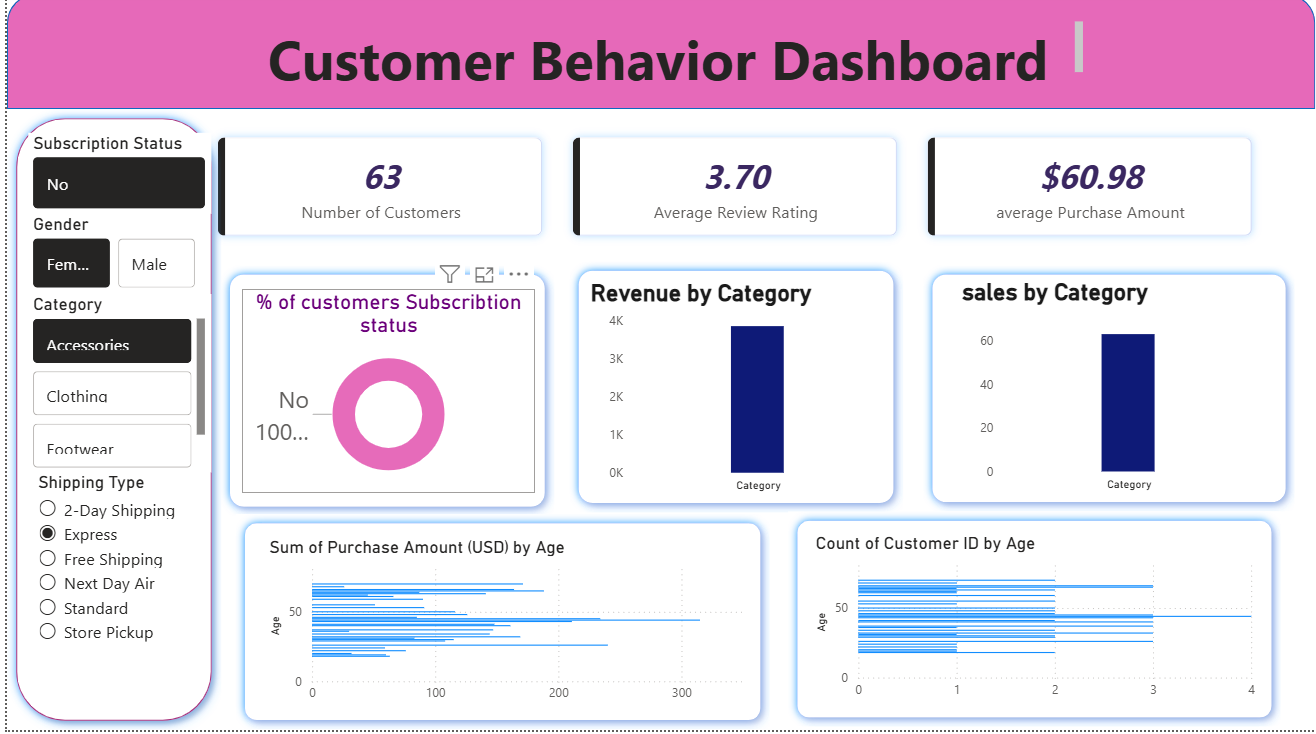

The page's visual inventory and layout, read from the dashboard file:
{"tool":"powerbi","page":{"name":"Page 1","canvas":[1280,720],"ordinal":0},"visuals":[{"type":"cardVisual","fields":{"Data":["public customer.Number of Customers","public customer.Average Review Rating","public customer.average Purchase Amount"]},"box":[178.9,112.5,1067.6,152.9],"z":0},{"type":"shape","box":[0,0,1279.7,112.5],"z":1000},{"type":"textbox","box":[223.6,21.6,833.9,69.3],"z":2000},{"type":"shape","box":[209.2,265.5,326.1,245.3],"z":3000},{"type":"donutChart","title":"% of  customers Subscribtion status","fields":{"Category":["public customer.Subscription Status"],"Y":["CountNonNull(public customer.Customer ID)"]},"box":[229.4,288.6,287.1,199.1],"z":4000},{"type":"shape","box":[549.7,261.1,326.1,245.3],"z":5000},{"type":"shape","box":[896,265.5,363.6,240.9],"z":6000},{"type":"clusteredColumnChart","title":" Revenue by Category","fields":{"Category":["public customer.Category"],"Y":["Sum(public customer.Purchase Amount (USD))"]},"box":[565.6,278.5,297.2,213.5],"z":7000},{"type":"clusteredColumnChart","title":"sales by Category","fields":{"Category":["public customer.Category"],"Y":["CountNonNull(public customer.Customer ID)"]},"box":[929.1,277,297.2,213.5],"z":8000},{"type":"shape","box":[0,112.5,209.2,607.4],"z":9000},{"type":"advancedSlicerVisual","fields":{"Values":["public customer.Subscription Status"]},"box":[20.2,135.6,178.9,79.4],"z":10000},{"type":"advancedSlicerVisual","fields":{"Values":["public customer.Gender"]},"box":[20.2,215,168.8,77.9],"z":11000},{"type":"advancedSlicerVisual","fields":{"Values":["public customer.Category"]},"box":[20.2,292.9,178.9,174.6],"z":12000},{"type":"listSlicer","fields":{"Values":["public customer.Shipping Type"]},"box":[26,467.5,158.7,226.5],"z":13000},{"type":"shape","box":[223.6,509.3,522.3,210.6],"z":14000},{"type":"clusteredBarChart","fields":{"Y":["Sum(public customer.Purchase Amount (USD))"],"Category":["public customer.Age"]},"box":[252.5,530.9,483.3,171.7],"z":15000},{"type":"shape","box":[764.7,506.4,481.9,210.6],"z":16000},{"type":"clusteredBarChart","fields":{"Category":["public customer.Age"],"Y":["CountNonNull(public customer.Customer ID)"]},"box":[786.3,526.6,440,171.7],"z":17000}]}

Visuals, with their boxes in screenshot pixels (x1, y1, x2, y2), scaled from the page's 1280x720 canvas onto the 1316x734 screenshot:
cardVisual - public customer.Number of Customers x public customer.Average Review Rating: bbox(184, 115, 1282, 271)
shape: bbox(0, 0, 1315, 115)
textbox: bbox(230, 22, 1087, 93)
shape: bbox(215, 271, 550, 521)
"% of  customers Subscribtion status" donutChart: bbox(236, 294, 531, 497)
shape: bbox(565, 266, 900, 516)
shape: bbox(921, 271, 1295, 516)
" Revenue by Category" clusteredColumnChart: bbox(582, 284, 887, 502)
"sales by Category" clusteredColumnChart: bbox(955, 282, 1261, 500)
shape: bbox(0, 115, 215, 733)
advancedSlicerVisual - public customer.Subscription Status: bbox(21, 138, 205, 219)
advancedSlicerVisual - public customer.Gender: bbox(21, 219, 194, 299)
advancedSlicerVisual - public customer.Category: bbox(21, 299, 205, 477)
listSlicer - public customer.Shipping Type: bbox(27, 477, 190, 707)
shape: bbox(230, 519, 767, 733)
clusteredBarChart - Sum(public customer.Purchase Amount (USD)) x public customer.Age: bbox(260, 541, 756, 716)
shape: bbox(786, 516, 1282, 731)
clusteredBarChart - public customer.Age x CountNonNull(public customer.Customer ID): bbox(808, 537, 1261, 712)
